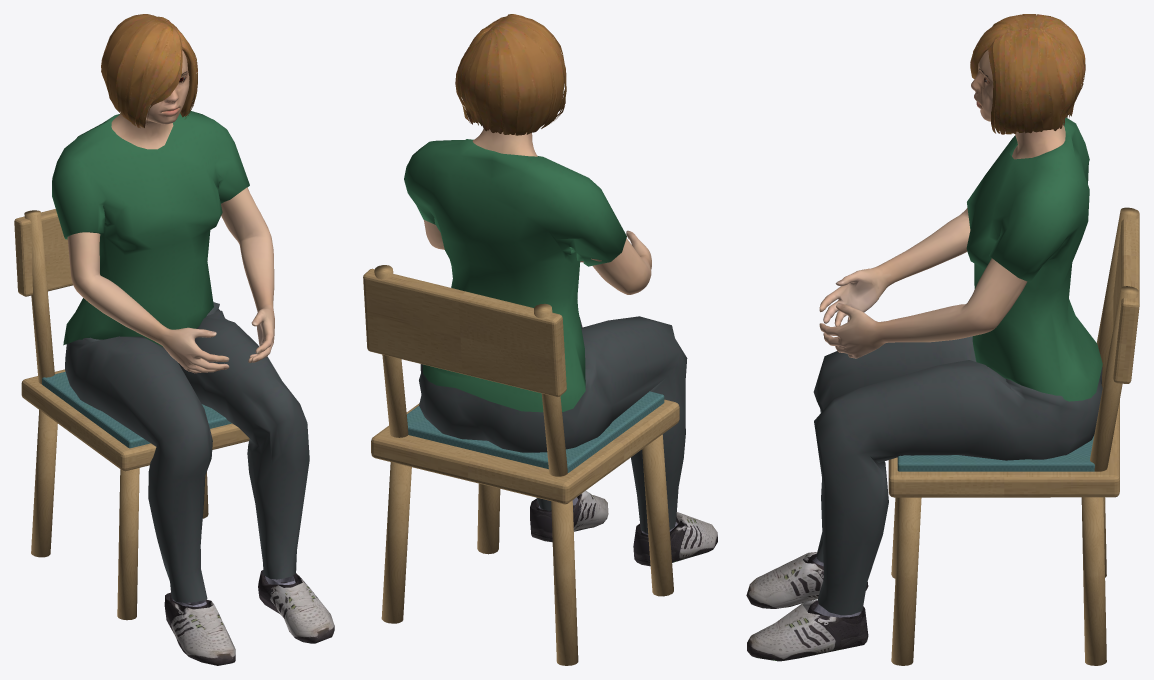
Rendered from detail_waiting_visitor.glb.
3 views of the same model, side by side, from view 1: azimuth 30°, elevation 25°; view 2: azimuth 150°, elevation 25°; view 3: azimuth 270°, elevation 25° (orthographic). The views are drawn at different scales.
Parts seen in each view (by area): view 1: female_casualsuit01, Chair | backrest upright, Taylor | anatomical body, bob02, shoes05, Chair | discreet seat pad; view 2: female_casualsuit01, Chair | backrest upright, bob02, shoes05, Chair | discreet seat pad, Taylor | anatomical body; view 3: female_casualsuit01, Chair | backrest upright, Taylor | anatomical body, bob02, shoes05, Chair | discreet seat pad.
Boxes of the visible parts, x1,y1,x2,y2 form: female_casualsuit01: (52,111,309,602); Chair | backrest upright: (14,209,249,620); Taylor | anatomical body: (67,50,274,373); bob02: (101,14,197,128); shoes05: (164,570,334,665); Chair | discreet seat pad: (42,371,231,448); female_casualsuit01: (404,139,687,533); Chair | backrest upright: (363,265,679,665); bob02: (455,14,566,135); shoes05: (530,490,717,566); Chair | discreet seat pad: (406,391,664,472); Taylor | anatomical body: (424,128,651,294); female_casualsuit01: (813,117,1102,615); Chair | backrest upright: (888,207,1139,665); Taylor | anatomical body: (819,50,1065,358); bob02: (970,14,1085,134); shoes05: (746,552,868,661); Chair | discreet seat pad: (897,435,1094,471).
Size of the model in its own units: 0.498 by 1.34 by 0.782.
Materials: 11 (11 with a texture image).
